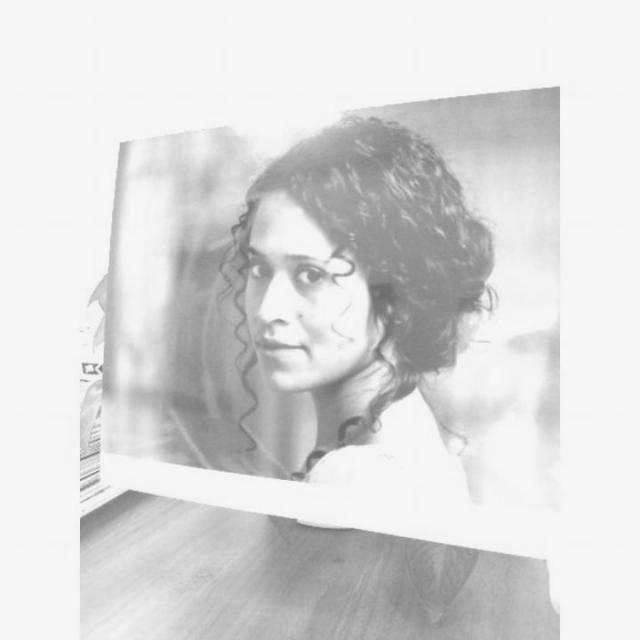fake: (105, 82, 559, 572)
